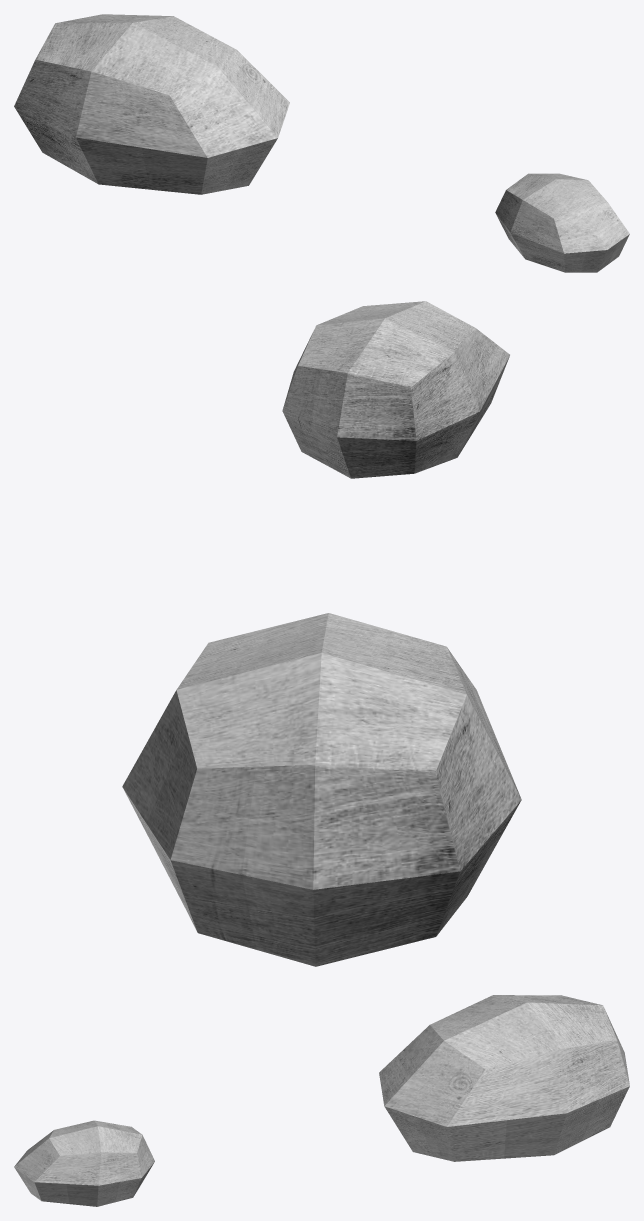
The model's file is Pedrinha2.fbx.
The picture shows the model from 3 angles, top to bottom: view 1: azimuth 30°, elevation 25°; view 2: azimuth 150°, elevation 25°; view 3: azimuth 270°, elevation 25°; orthographic projection. The views are drawn at different scales.
Parts seen in each view (by area): view 1: Cube.052; view 2: Cube.052; view 3: Cube.052.
Boxes of the visible parts, <box> form: Cube.052: <box>14,14,629,272</box>; Cube.052: <box>122,301,521,966</box>; Cube.052: <box>14,995,629,1206</box>.
Bounding box in the file's own units: 171 × 73.66 × 286.
Materials: 1 (1 with a texture image).
